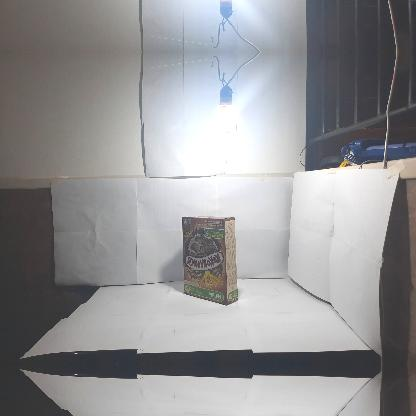Koko-Krunch: (182, 215, 238, 305)
